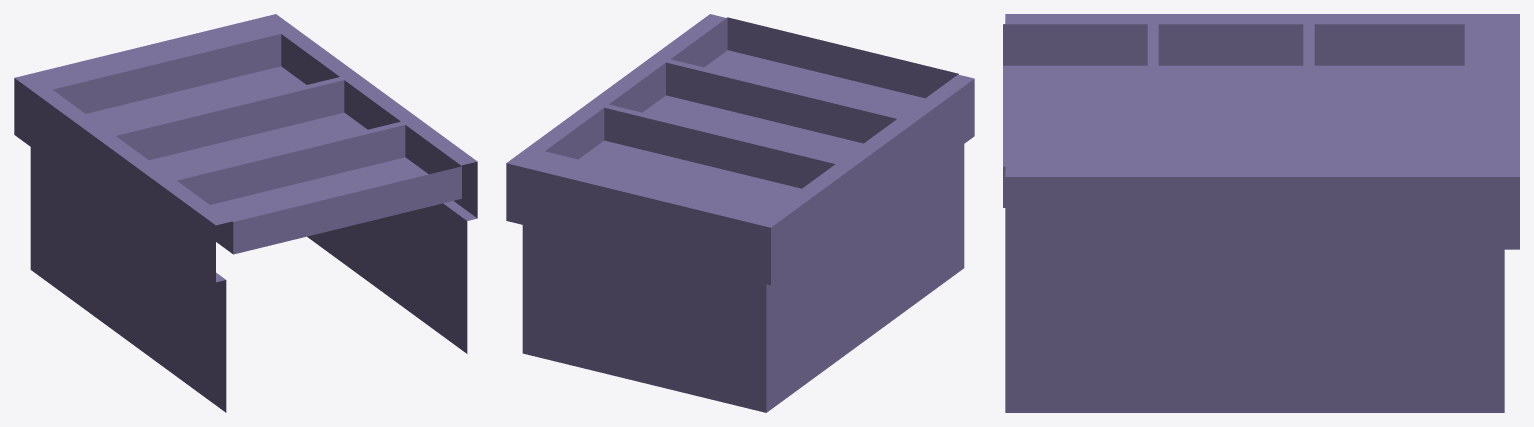
File: Comedero_Largo_P1.fbx
3 renders of one model, left to right at view 1: azimuth 30°, elevation 25°; view 2: azimuth 150°, elevation 25°; view 3: azimuth 270°, elevation 25°, orthographic. The views are drawn at different scales.
Parts seen in each view (by area): view 1: Comedero_Largo2; view 2: Comedero_Largo2; view 3: Comedero_Largo2.
Boxes of the visible parts, bbox=[...] form: Comedero_Largo2: bbox=[14, 14, 477, 412]; Comedero_Largo2: bbox=[506, 14, 974, 412]; Comedero_Largo2: bbox=[1003, 14, 1519, 412].
Size of the model in its own units: 76 by 52.74 by 102.
